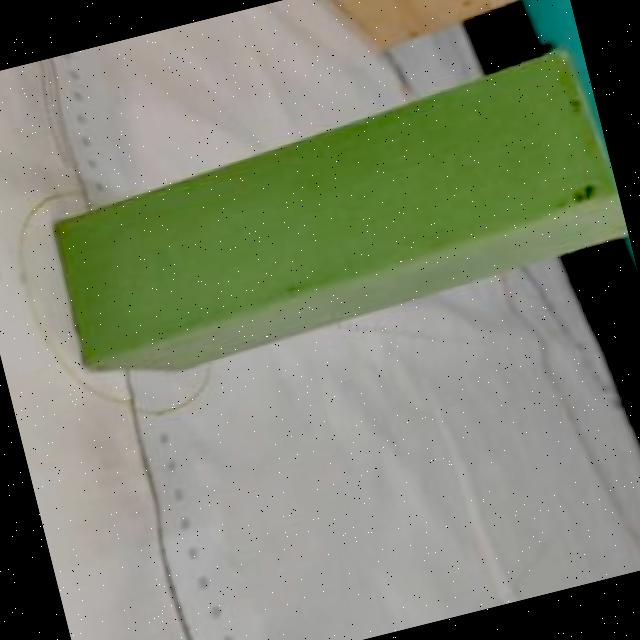greenbox: (41, 61, 630, 377)
